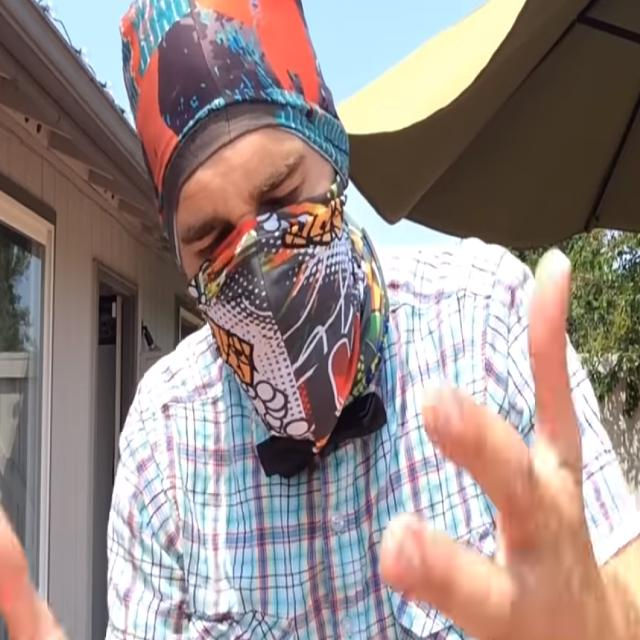hat: (118, 2, 346, 237)
